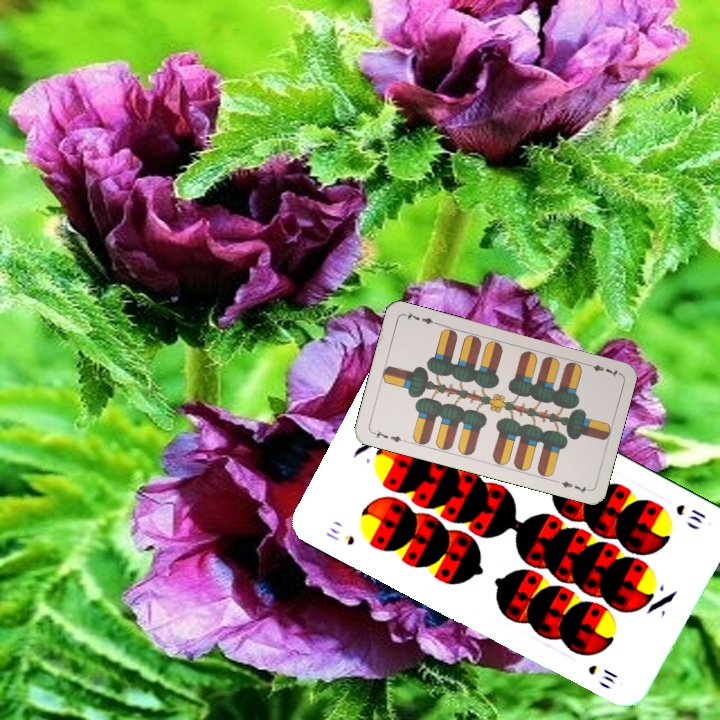E7: (582, 359, 622, 379), (368, 426, 408, 445)
S10: (671, 500, 709, 526), (321, 523, 357, 548)
